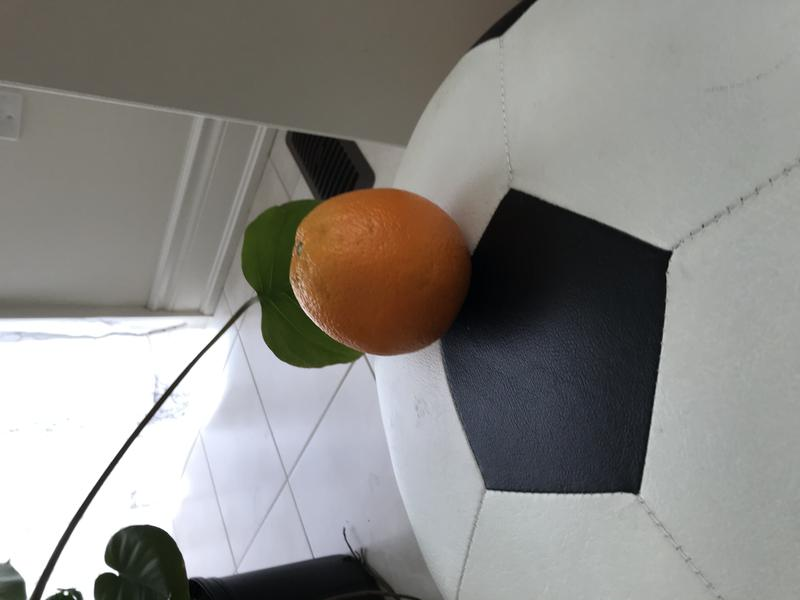orange: (276, 181, 484, 361)
